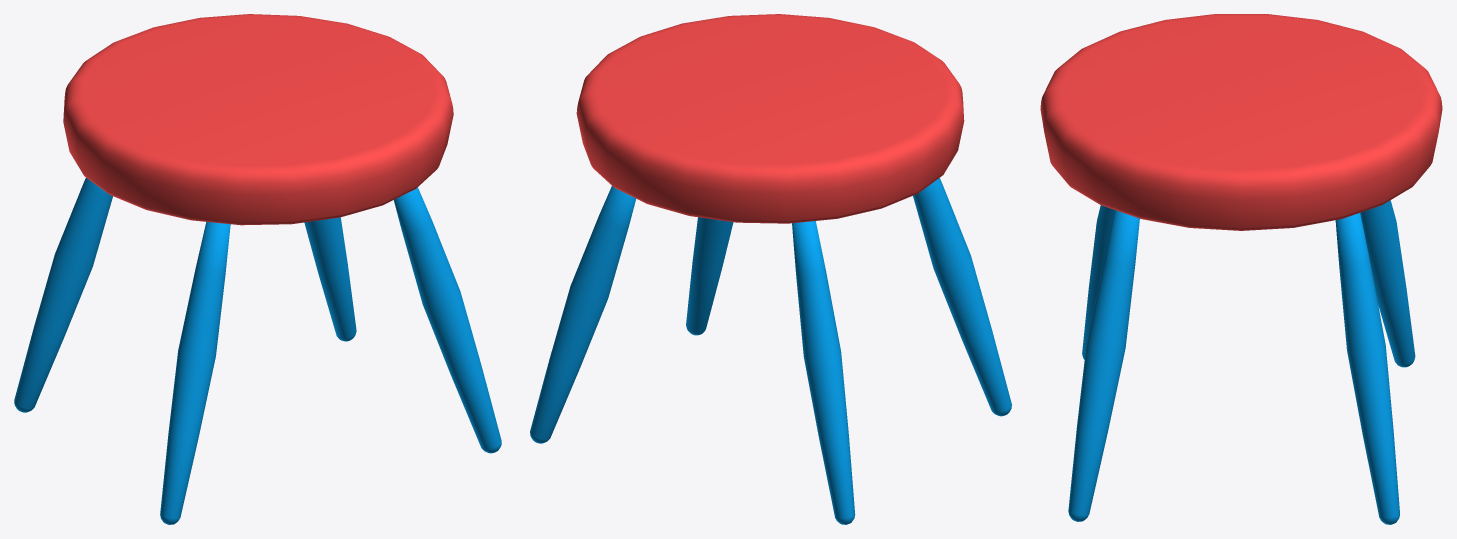
File: StoolBreak.fbx
3 renders of one model, left to right at view 1: azimuth 30°, elevation 25°; view 2: azimuth 150°, elevation 25°; view 3: azimuth 270°, elevation 25°, orthographic. The views are drawn at different scales.
Visible parts, largest first — view 1: Stool, StoolLegs.003, StoolLegs.001, StoolLegs.002, StoolLegs.004; view 2: Stool, StoolLegs.002, StoolLegs.004, StoolLegs.003, StoolLegs.001; view 3: Stool, StoolLegs.001, StoolLegs.004, StoolLegs.002, StoolLegs.003.
Boxes of the visible parts, x1=… form: Stool: x1=63, y1=14, x2=453, y2=225; StoolLegs.003: x1=160, y1=222, x2=230, y2=524; StoolLegs.001: x1=394, y1=187, x2=501, y2=453; StoolLegs.002: x1=14, y1=177, x2=112, y2=412; StoolLegs.004: x1=304, y1=217, x2=356, y2=341; Stool: x1=576, y1=14, x2=964, y2=223; StoolLegs.002: x1=792, y1=221, x2=855, y2=524; StoolLegs.004: x1=530, y1=186, x2=635, y2=443; StoolLegs.003: x1=913, y1=178, x2=1011, y2=416; StoolLegs.001: x1=686, y1=217, x2=733, y2=335; Stool: x1=1040, y1=14, x2=1442, y2=230; StoolLegs.001: x1=1068, y1=210, x2=1139, y2=521; StoolLegs.004: x1=1335, y1=213, x2=1399, y2=524; StoolLegs.002: x1=1360, y1=200, x2=1415, y2=367; StoolLegs.003: x1=1082, y1=205, x2=1115, y2=359.
Bounding box in the file's own units: 70.84 × 68.18 × 70.83.
